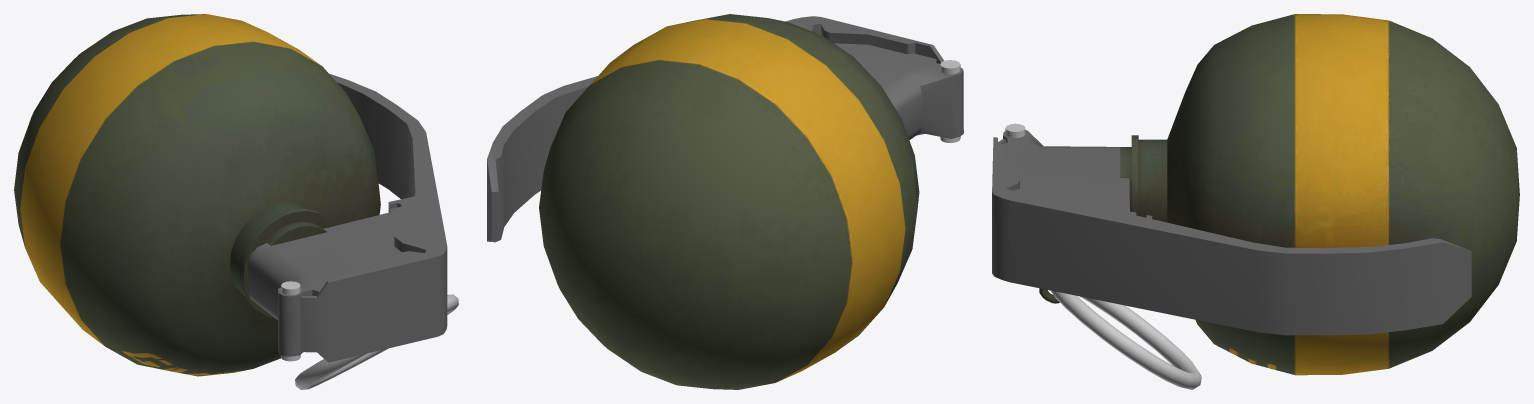
File: HE_net.glb
The picture shows the model from 3 angles, left to right: view 1: azimuth 30°, elevation 25°; view 2: azimuth 150°, elevation 25°; view 3: azimuth 270°, elevation 25°; orthographic projection. The views are drawn at different scales.
Parts seen in each view (by area): view 1: HE_net; view 2: HE_net; view 3: HE_net.
Part boxes in pixels (x1,y1,x2,y2): HE_net: (14, 14, 458, 389); HE_net: (487, 14, 963, 389); HE_net: (992, 14, 1519, 389).
Bounding box in the file's own units: 0.0944 × 0.082 × 0.1193.
1 material, 1 textured.
